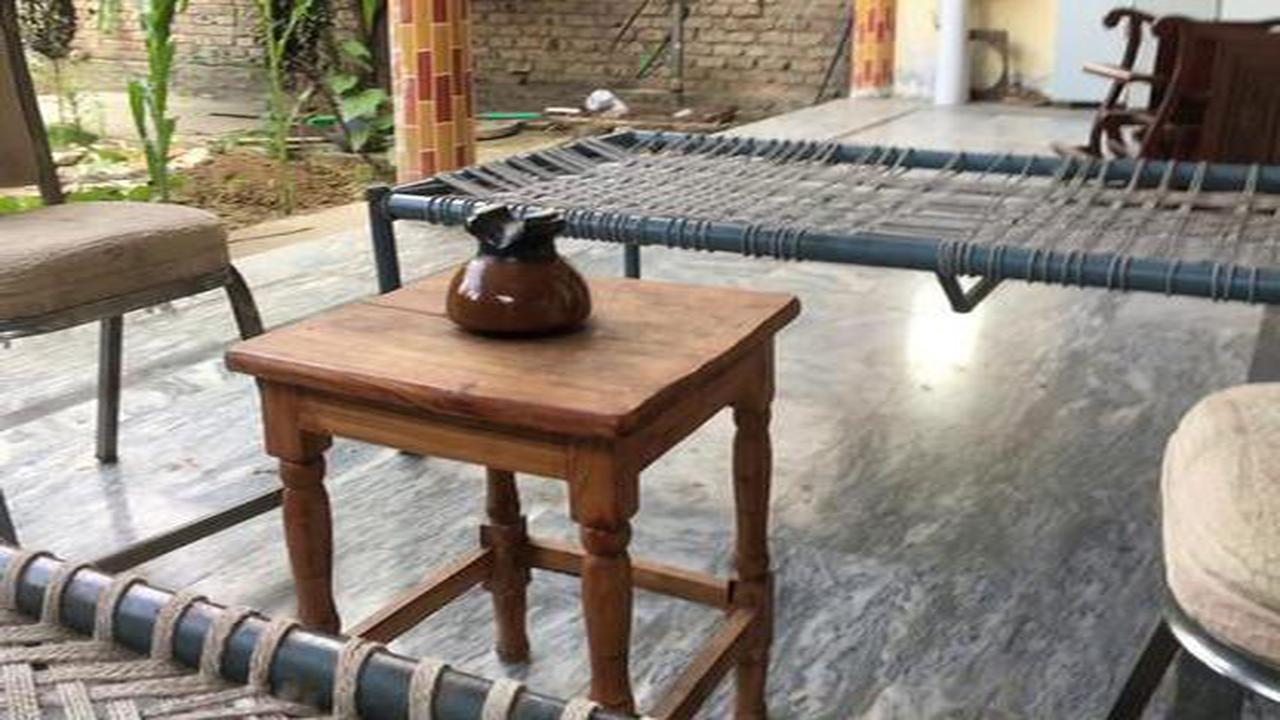insulator_pin: (428, 191, 607, 354)
